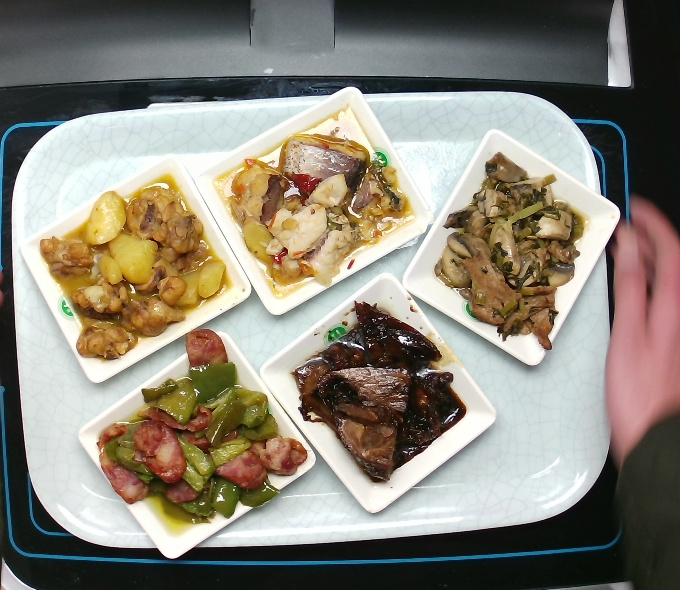wcq-JiangZhiYa: (289, 298, 468, 483)
wcq-MoGuRouPian: (429, 147, 592, 354)
wcq-QingJiaoXiangChang: (91, 326, 309, 524)
wcq-SuanCaiYu: (210, 104, 415, 298)
wcq-TuDouJiKuai: (36, 176, 230, 365)
